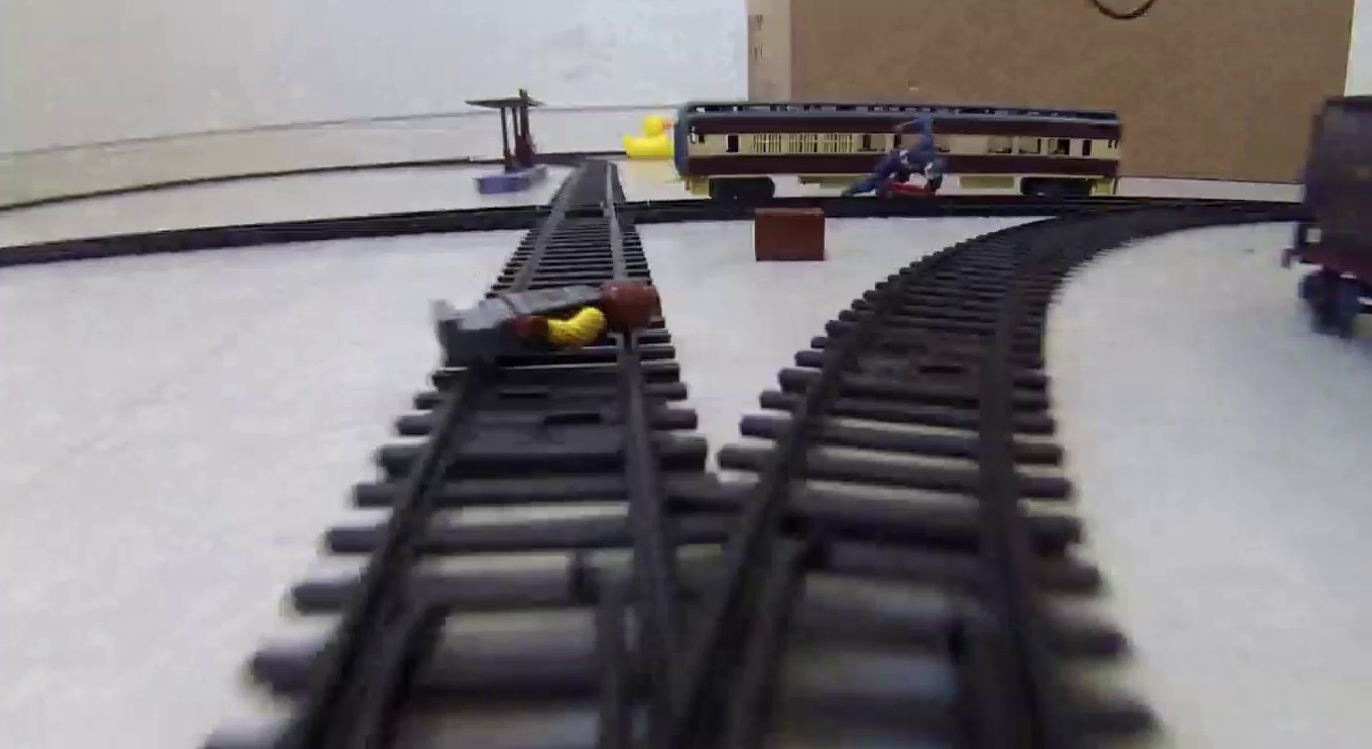box: (751, 207, 828, 265)
people: (431, 276, 662, 369), (837, 113, 950, 200)
